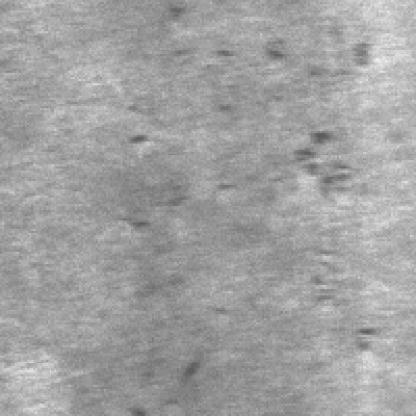rolled-in_scale: (276, 40, 376, 360), (112, 127, 216, 241)
